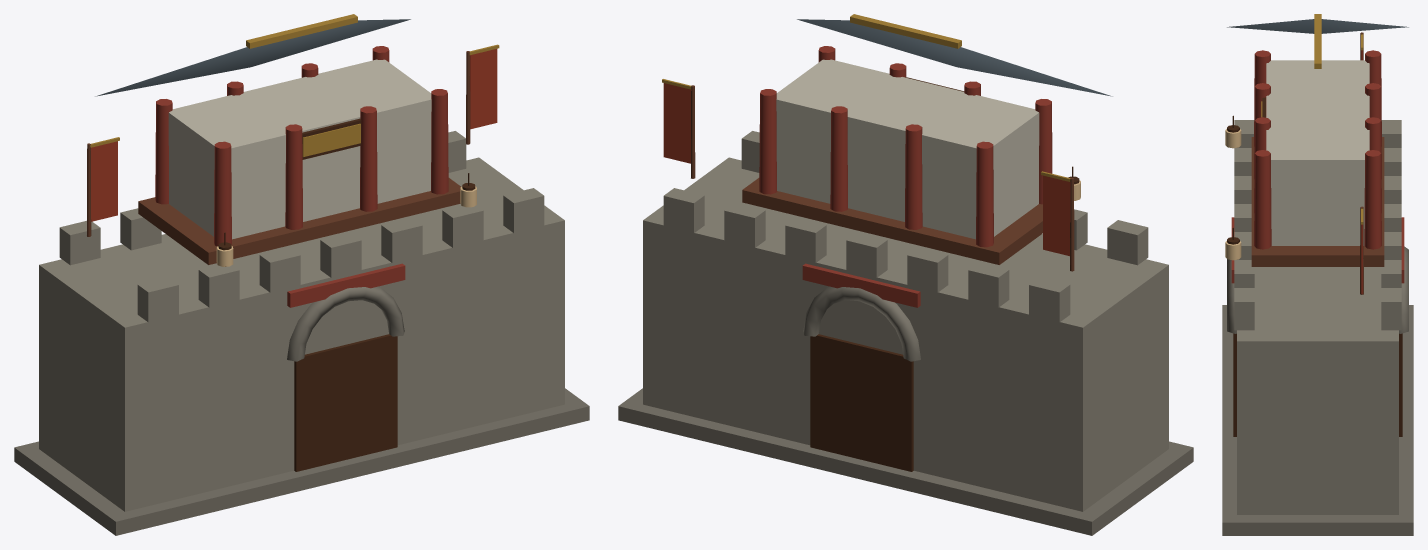
File: tang-gate-tower.glb
The picture shows the model from 3 angles, left to right: view 1: azimuth 30°, elevation 25°; view 2: azimuth 150°, elevation 25°; view 3: azimuth 270°, elevation 25°; orthographic projection. The views are drawn at different scales.
Visible parts, largest first — view 1: tang-gate-tower; view 2: tang-gate-tower; view 3: tang-gate-tower.
Part boxes in pixels (x1,y1,x2,y2): tang-gate-tower: [14, 14, 589, 535]; tang-gate-tower: [618, 14, 1193, 535]; tang-gate-tower: [1222, 14, 1413, 535].
Size of the model in its own units: 14 by 11.64 by 5.2.
